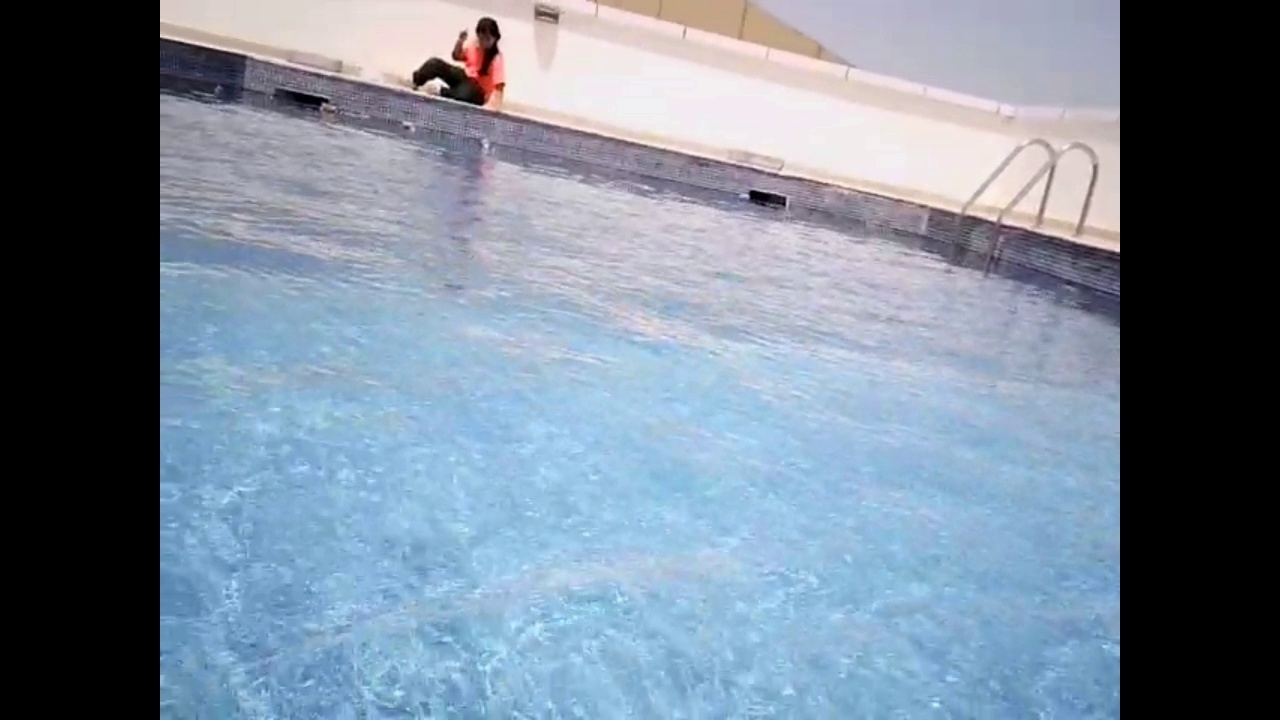debris: (314, 98, 342, 117), (733, 188, 753, 207), (398, 116, 418, 135), (474, 135, 494, 152)
